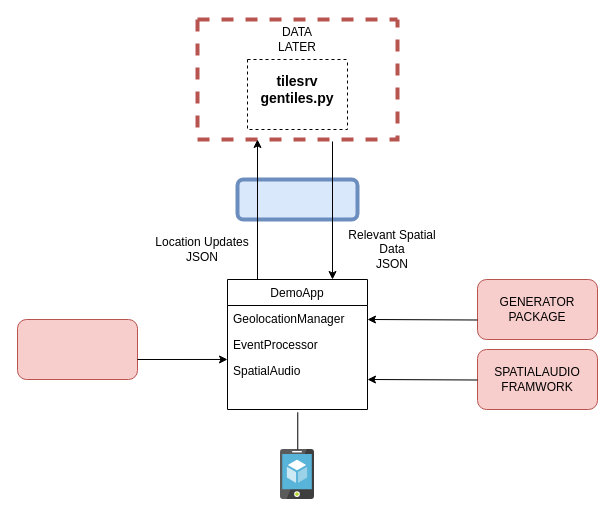
Image size: 615x516. Some labels were removed from this diagram. Each missing label, with the centre of its shape:
"GEOLOCATION FRAMWORK" goes at pixel 77 349.
"REST API" goes at pixel 297 199.
